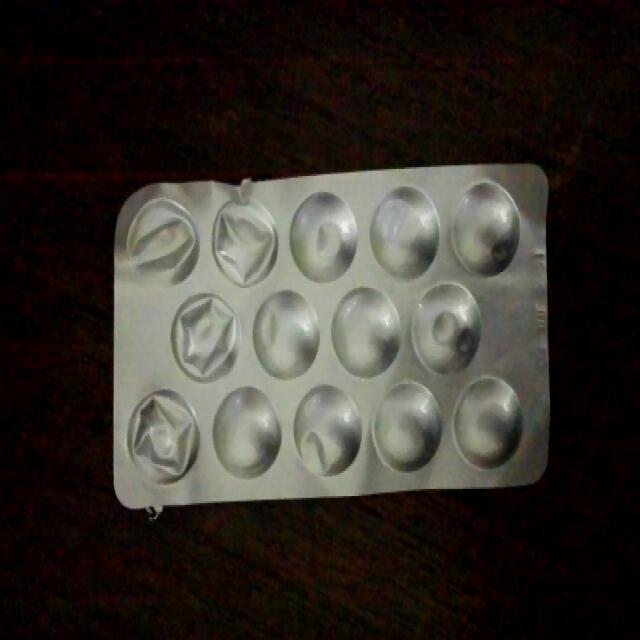Empty: (118, 385, 200, 492), (128, 191, 197, 295), (208, 190, 279, 289), (169, 289, 240, 382)
Pill: (450, 166, 521, 282), (410, 276, 487, 372), (366, 176, 436, 281), (454, 369, 524, 474), (212, 384, 284, 484), (371, 374, 441, 476), (287, 185, 357, 283), (250, 284, 322, 379), (327, 290, 407, 371)
